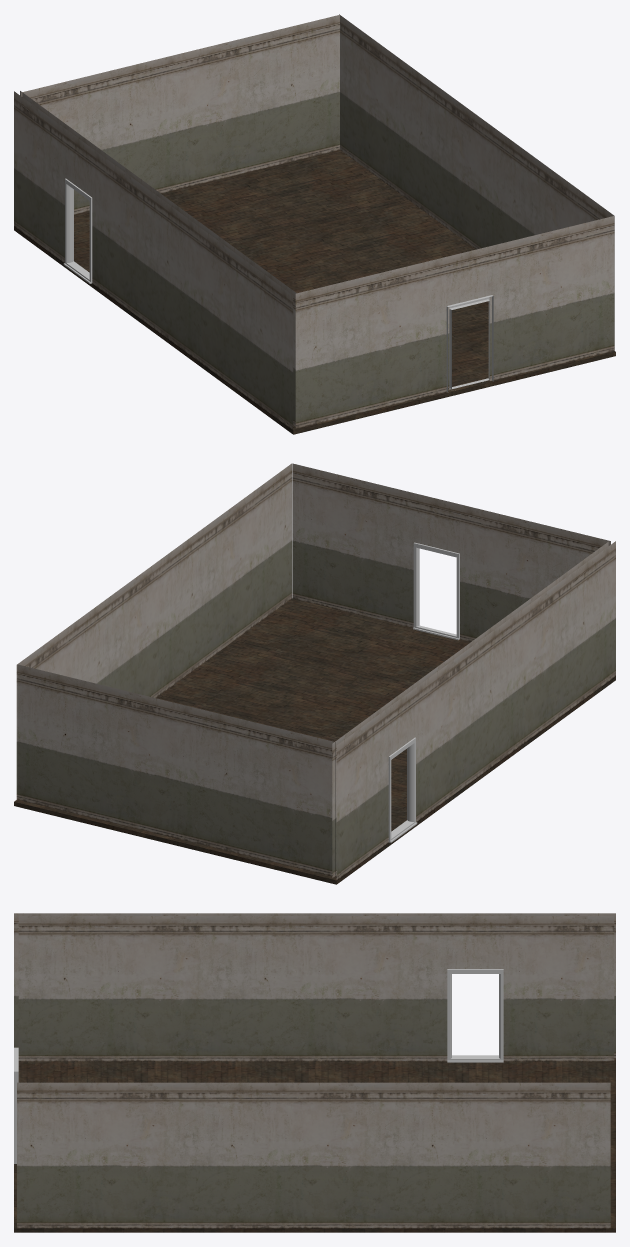
Rendered from room_15m_x_10m_door_right.fbx.
3 renders of one model, top to bottom at view 1: azimuth 30°, elevation 25°; view 2: azimuth 150°, elevation 25°; view 3: azimuth 270°, elevation 25°, orthographic. The views are drawn at different scales.
Visible parts, largest first — view 1: room_15m_x_10m_door_right; view 2: room_15m_x_10m_door_right; view 3: room_15m_x_10m_door_right.
Boxes of the visible parts, x1=… form: room_15m_x_10m_door_right: x1=14, y1=14, x2=615, y2=434; room_15m_x_10m_door_right: x1=14, y1=463, x2=615, y2=884; room_15m_x_10m_door_right: x1=14, y1=913, x2=615, y2=1232.
Bounding box in the file's own units: 1008 × 412 × 1500.
